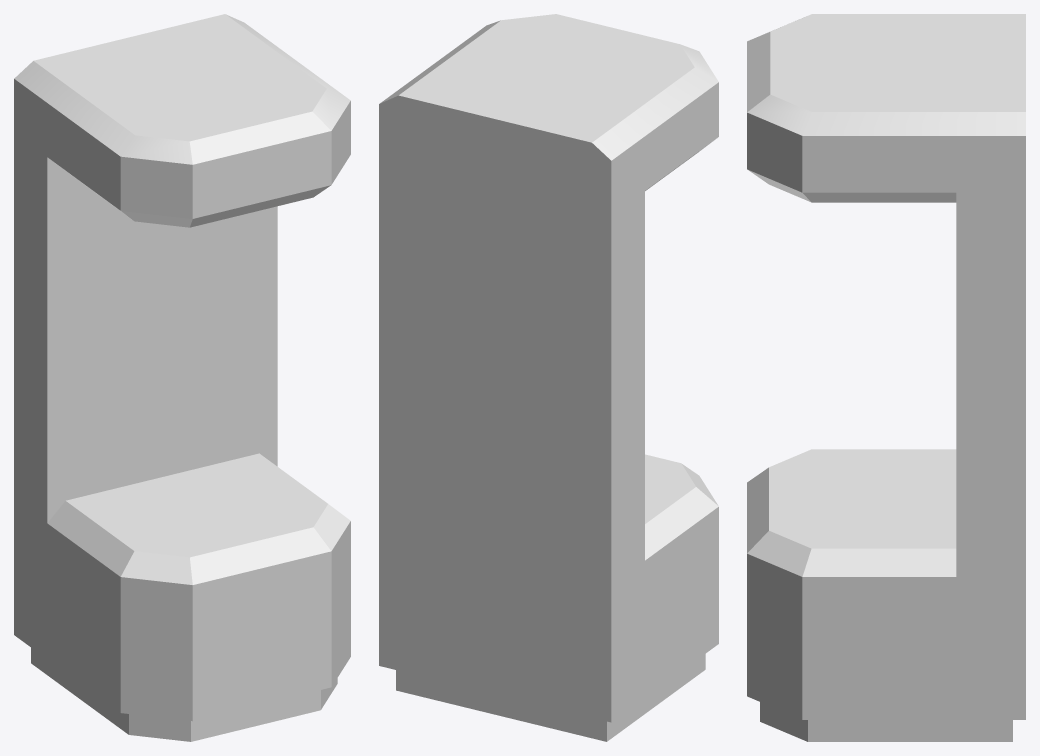
Rendered from Cont_DisplayCase_2.fbx.
The picture shows the model from 3 angles, left to right: view 1: azimuth 30°, elevation 25°; view 2: azimuth 150°, elevation 25°; view 3: azimuth 270°, elevation 25°; orthographic projection. The views are drawn at different scales.
Visible parts, largest first — view 1: Cont_DisplayCase_2; view 2: Cont_DisplayCase_2; view 3: Cont_DisplayCase_2.
Part boxes in pixels (x1,y1,x2,y2): Cont_DisplayCase_2: (14, 14, 350, 741); Cont_DisplayCase_2: (379, 14, 718, 741); Cont_DisplayCase_2: (747, 14, 1025, 741).
Bounding box in the file's own units: 0.9686 × 2.4 × 0.9686.
